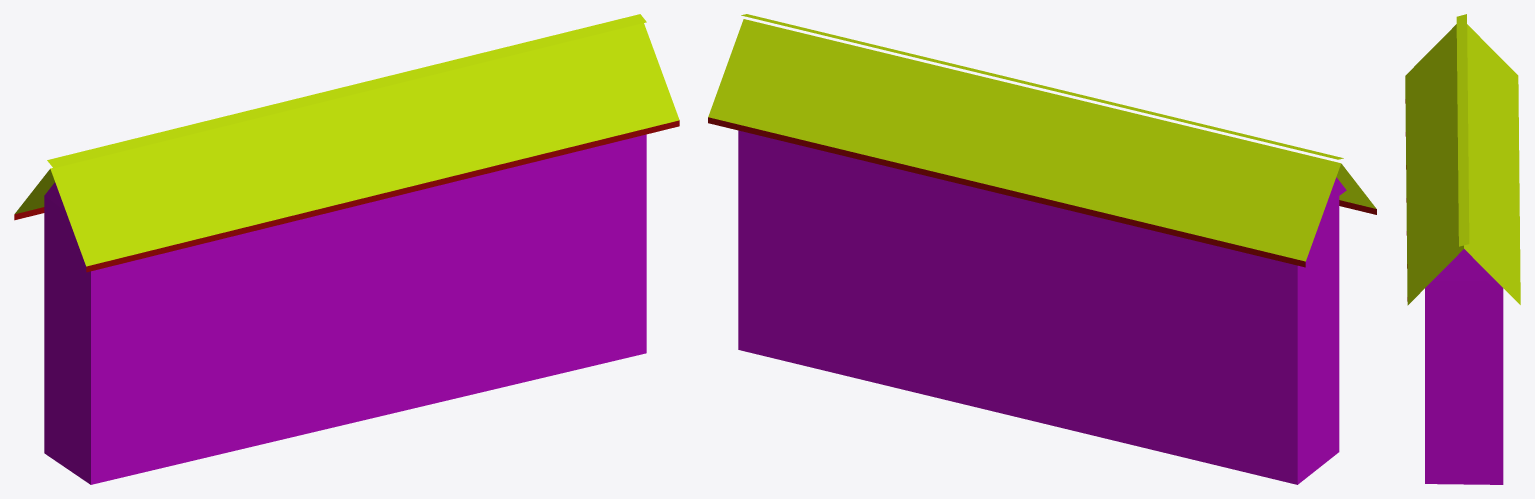
3 views of the same model, side by side, from view 1: azimuth 30°, elevation 25°; view 2: azimuth 150°, elevation 25°; view 3: azimuth 270°, elevation 25° (orthographic). The views are drawn at different scales.
Parts seen in each view (by area): view 1: sc_84; view 2: sc_84; view 3: sc_84.
Boxes of the visible parts, x1,y1,x2,y2 form: sc_84: (14,14,679,484); sc_84: (708,14,1376,484); sc_84: (1405,14,1520,484).
Bounding box in the file's own units: 12.52 × 6.3 × 2.65.
